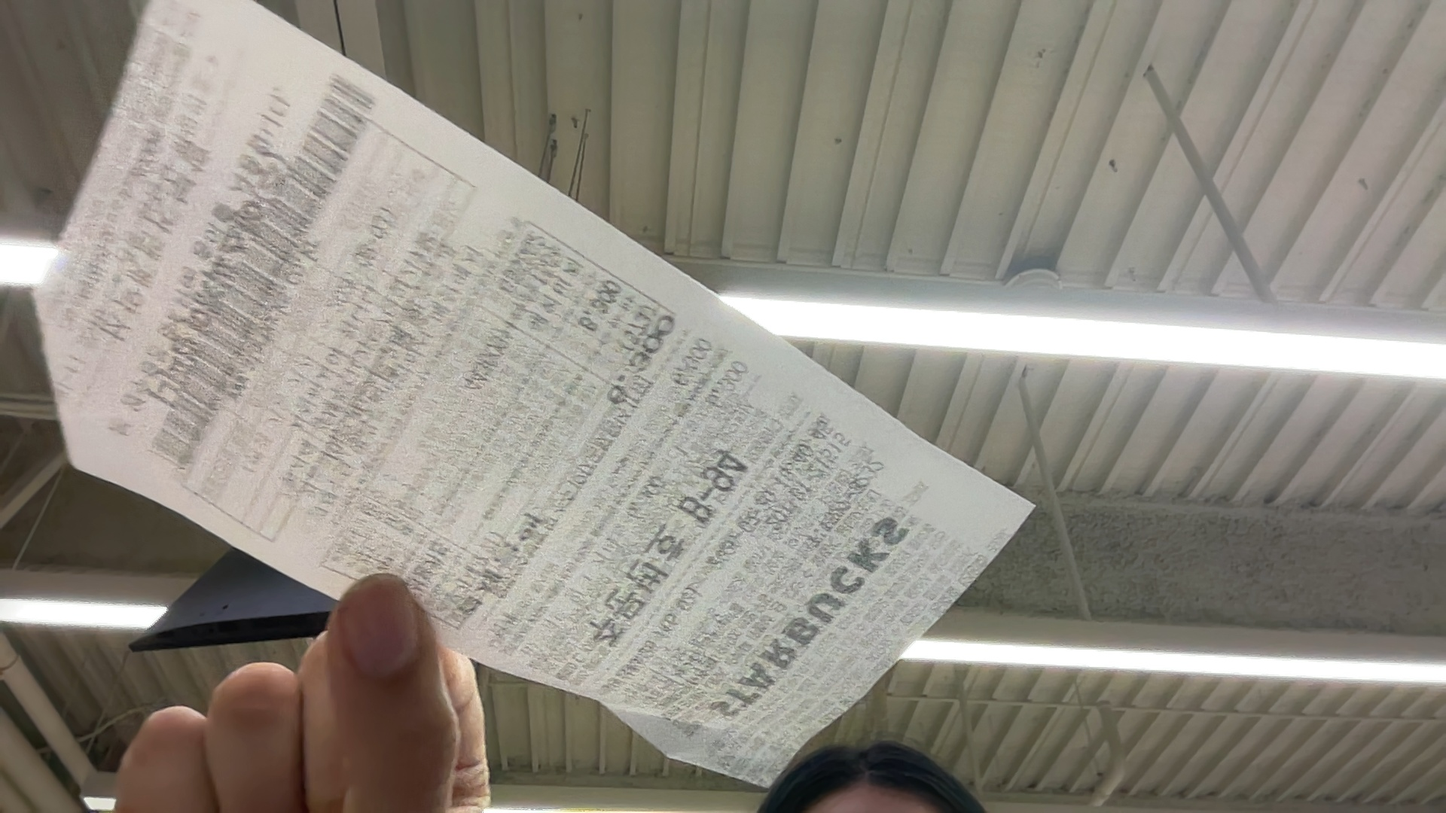Paper: (1, 235, 68, 283)
